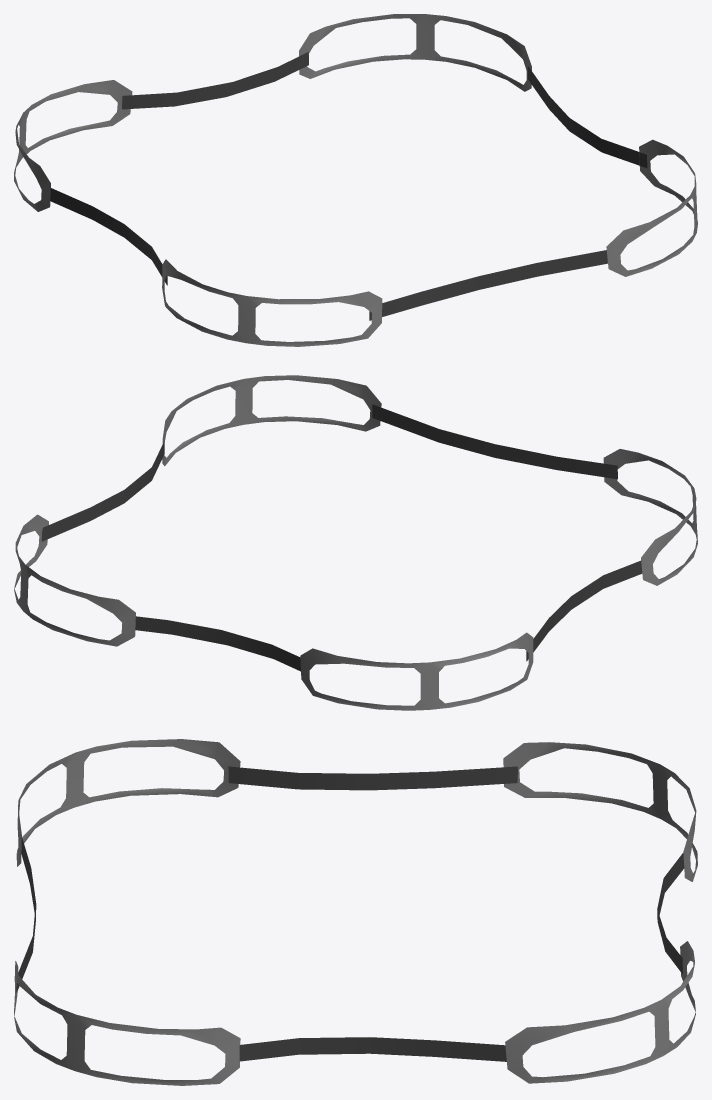
File: navi-guard.dae
The picture shows the model from 3 angles, top to bottom: view 1: azimuth 30°, elevation 25°; view 2: azimuth 150°, elevation 25°; view 3: azimuth 270°, elevation 25°; orthographic projection. The views are drawn at different scales.
Parts seen in each view (by area): view 1: SOLID.006; view 2: SOLID.006; view 3: SOLID.006.
Part boxes in pixels (x1,y1,x2,y2): SOLID.006: [14, 14, 697, 346]; SOLID.006: [14, 375, 697, 710]; SOLID.006: [14, 739, 697, 1085].
Bounding box in the file's own units: 0.9008 × 0.8913 × 0.0831.
1 material, 1 textured.
